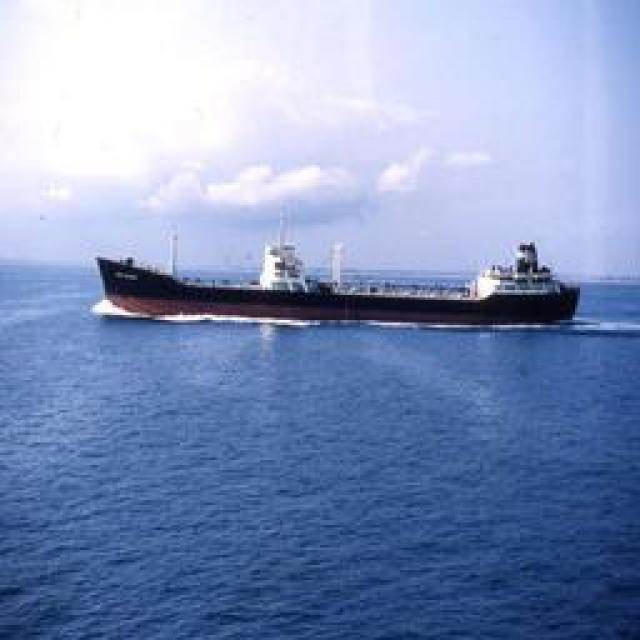CIV_Ship: (100, 238, 575, 324)
